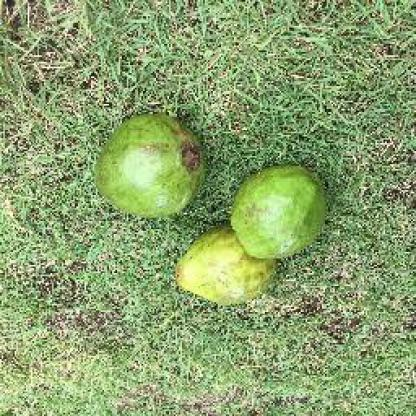guava: (96, 114, 203, 220), (231, 162, 335, 265), (176, 228, 280, 308)
